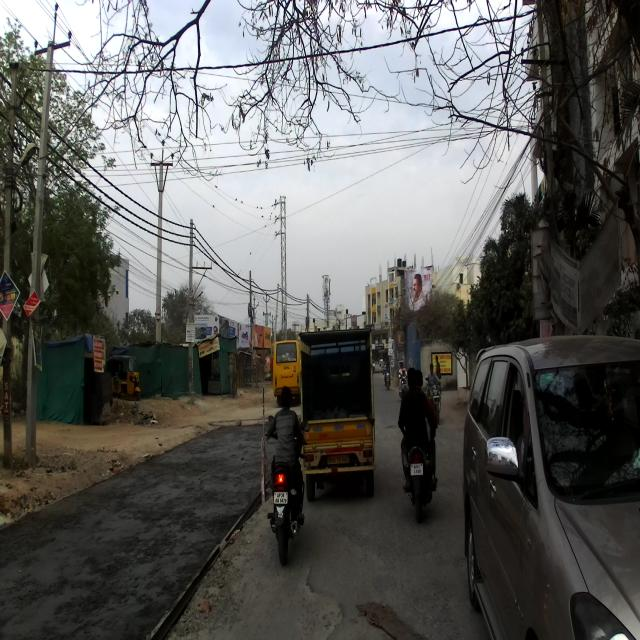car ahead at: (453, 340, 640, 639), (295, 321, 379, 494)
electric pole ahead at: (18, 0, 74, 470)
motorcycle ahead at: (264, 460, 309, 557), (395, 432, 441, 518)
